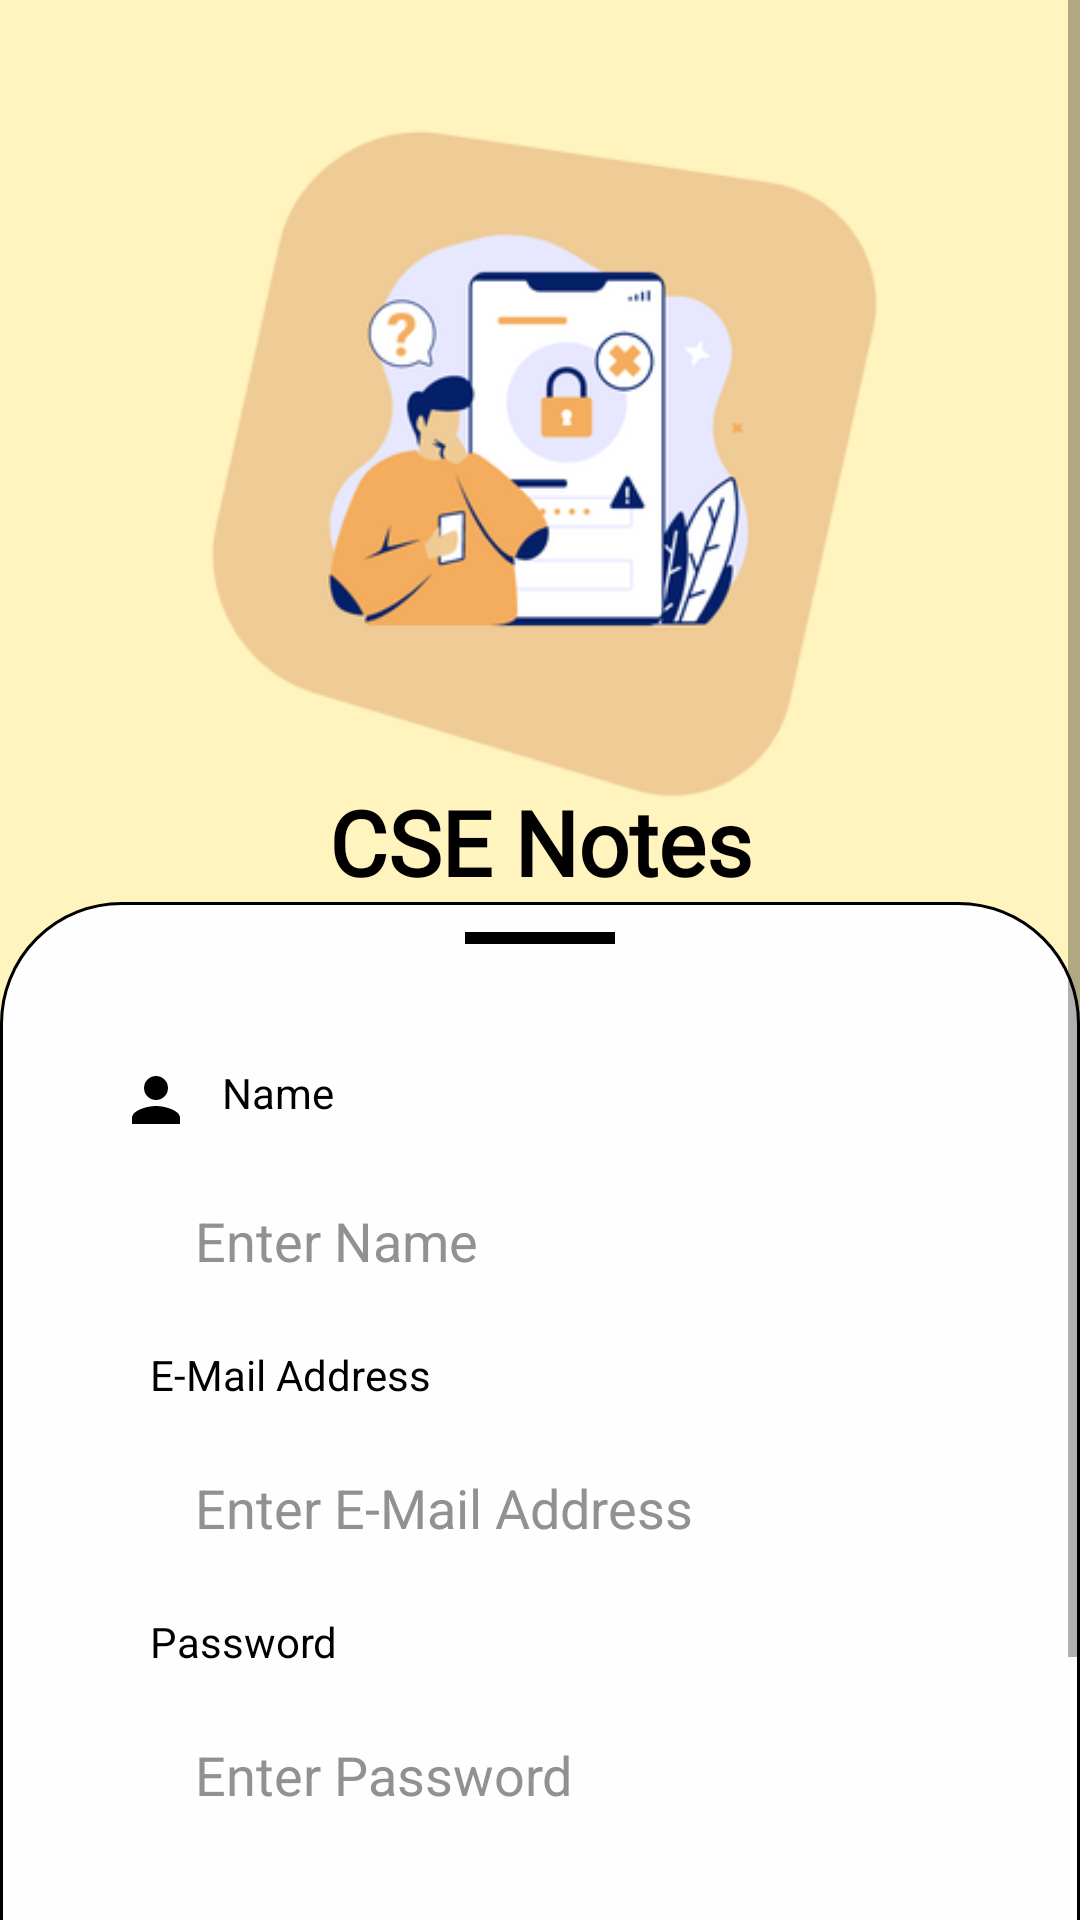

Point at icon controls on the screen. Image size 1080*1920, points as [x,y].
person: [156,1100]
